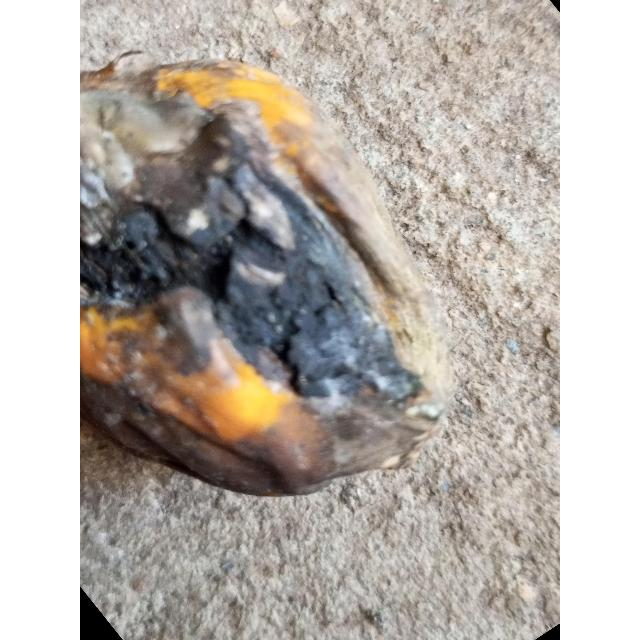damaged: (80, 53, 455, 500)
